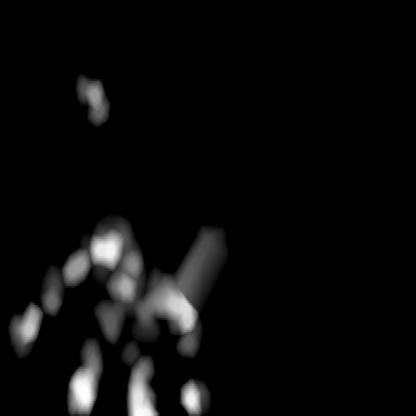fingers: (74, 74, 109, 123)
palm: (3, 320, 208, 414)
thumb: (92, 202, 230, 339)
